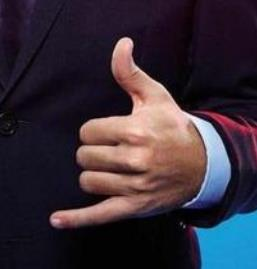clockwise: (46, 31, 186, 234)
